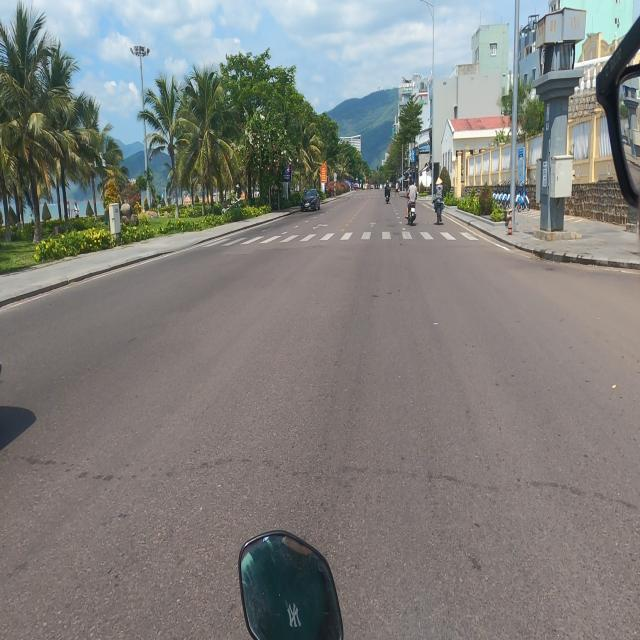walk-crossing: (228, 228, 474, 244)
